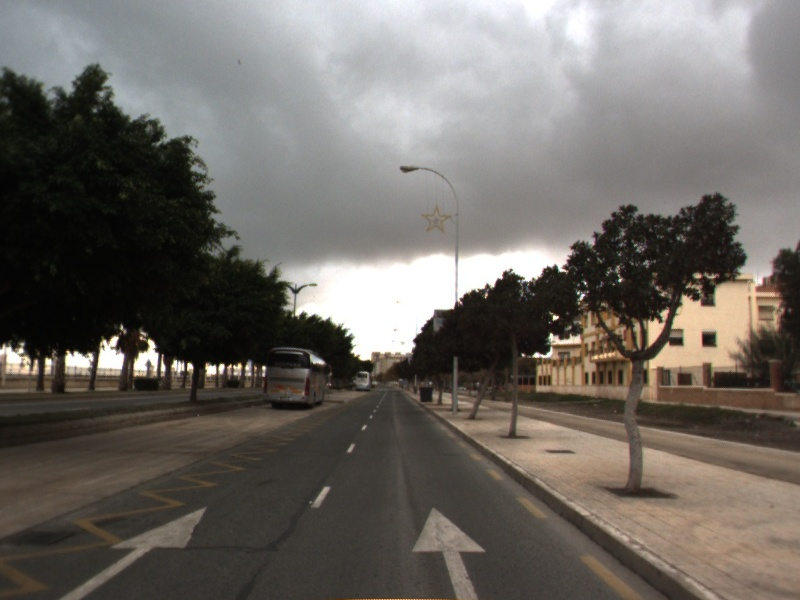STRAIGHT: (60, 502, 212, 600), (410, 504, 489, 600)
